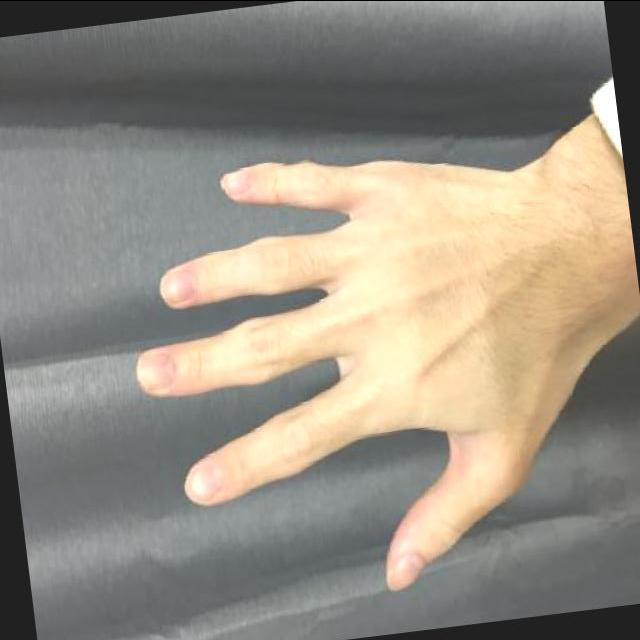hand: (100, 101, 640, 628)
